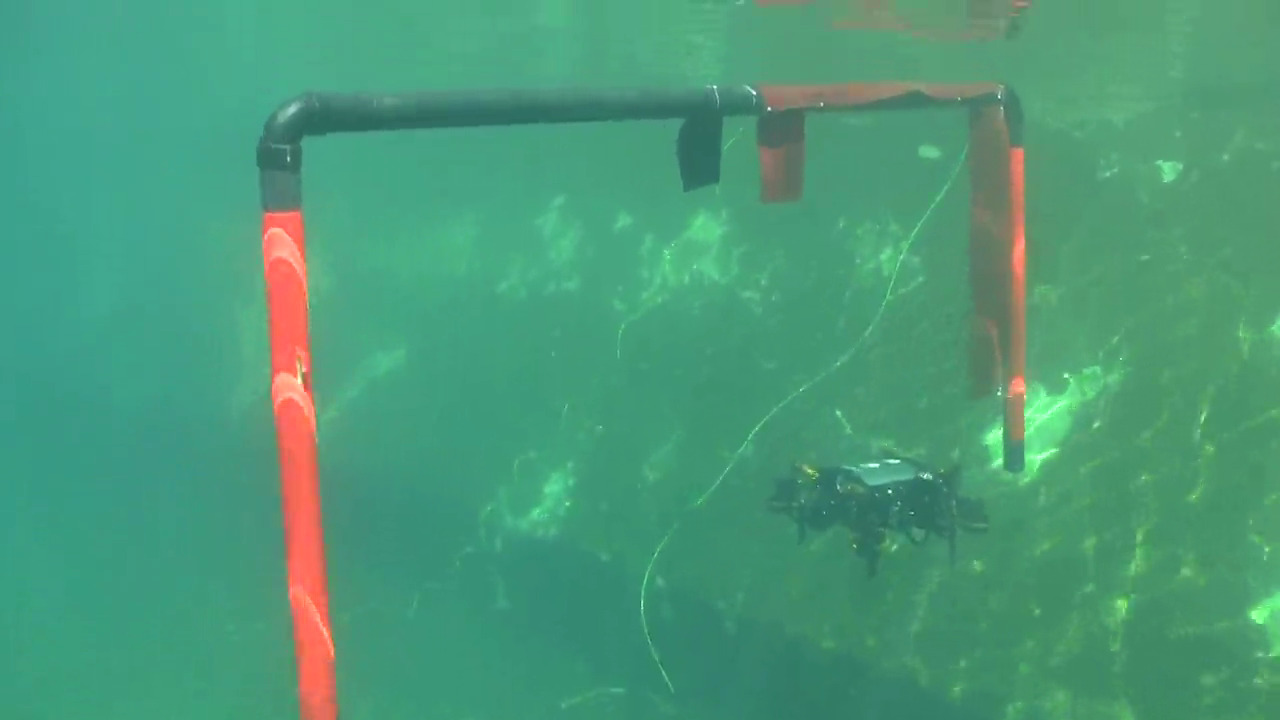gate: (253, 65, 1037, 452)
